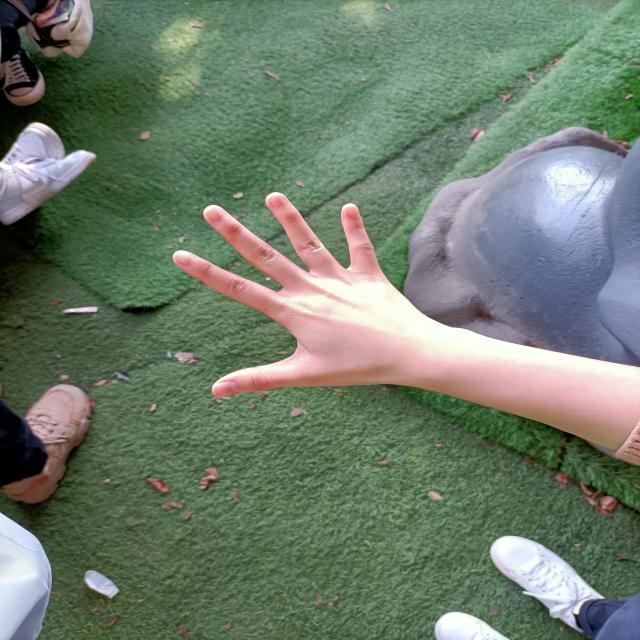no-gloves: (172, 192, 418, 398)
